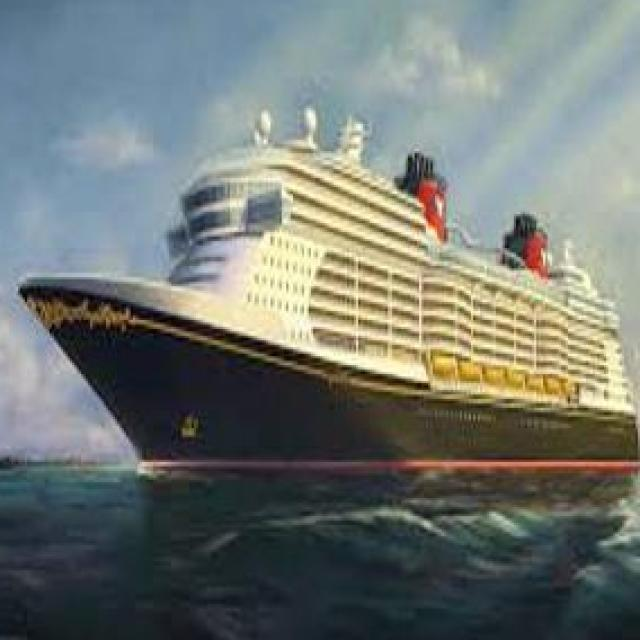passenger ship: (21, 107, 638, 476)
